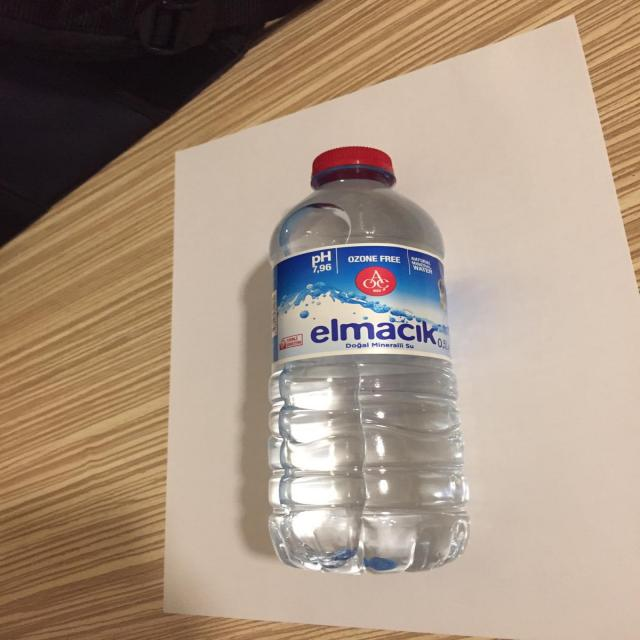bottle: (267, 142, 468, 590)
